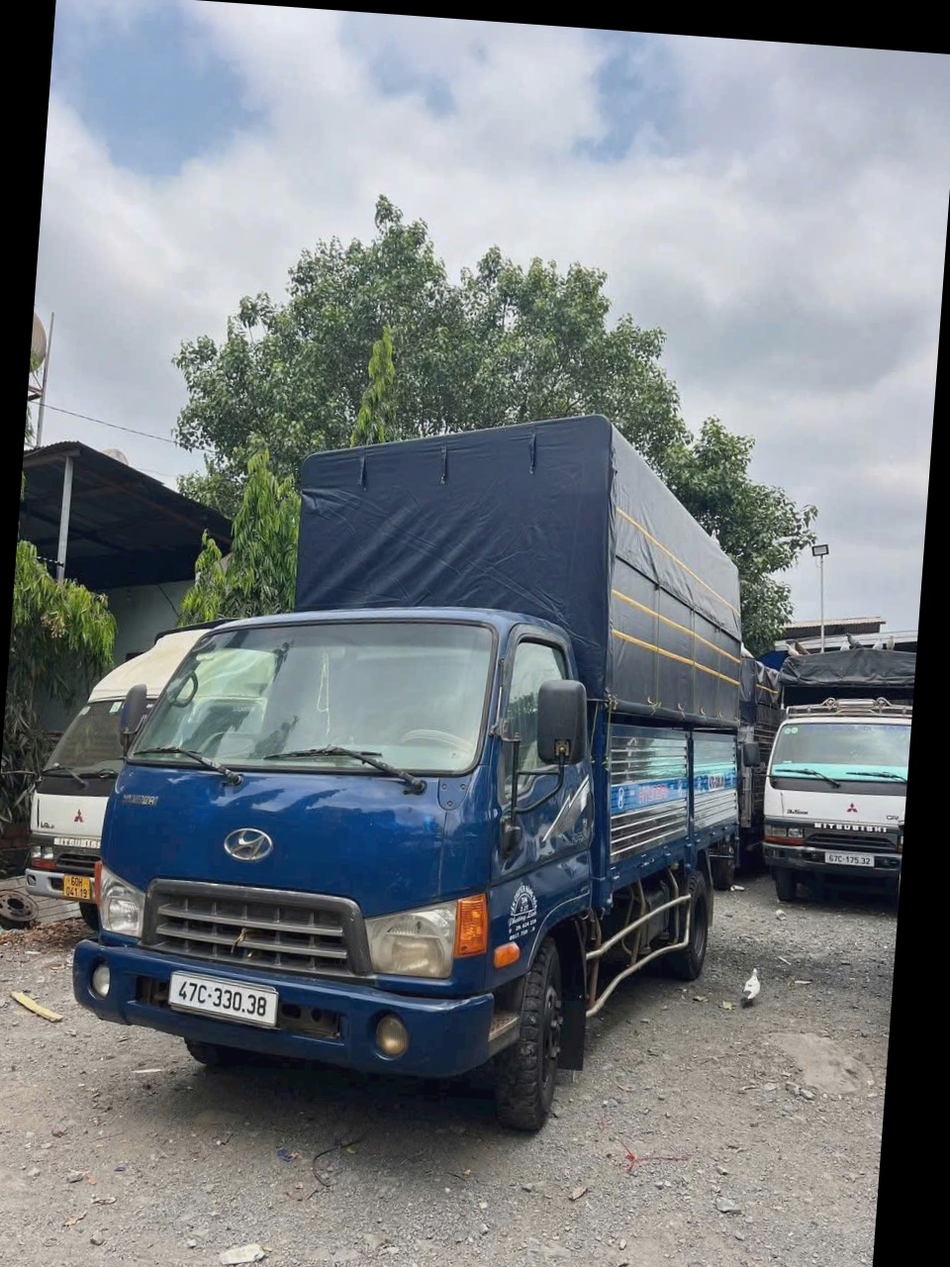Bien-so: (224, 977, 341, 1036), (95, 897, 131, 929), (905, 768, 950, 792)
